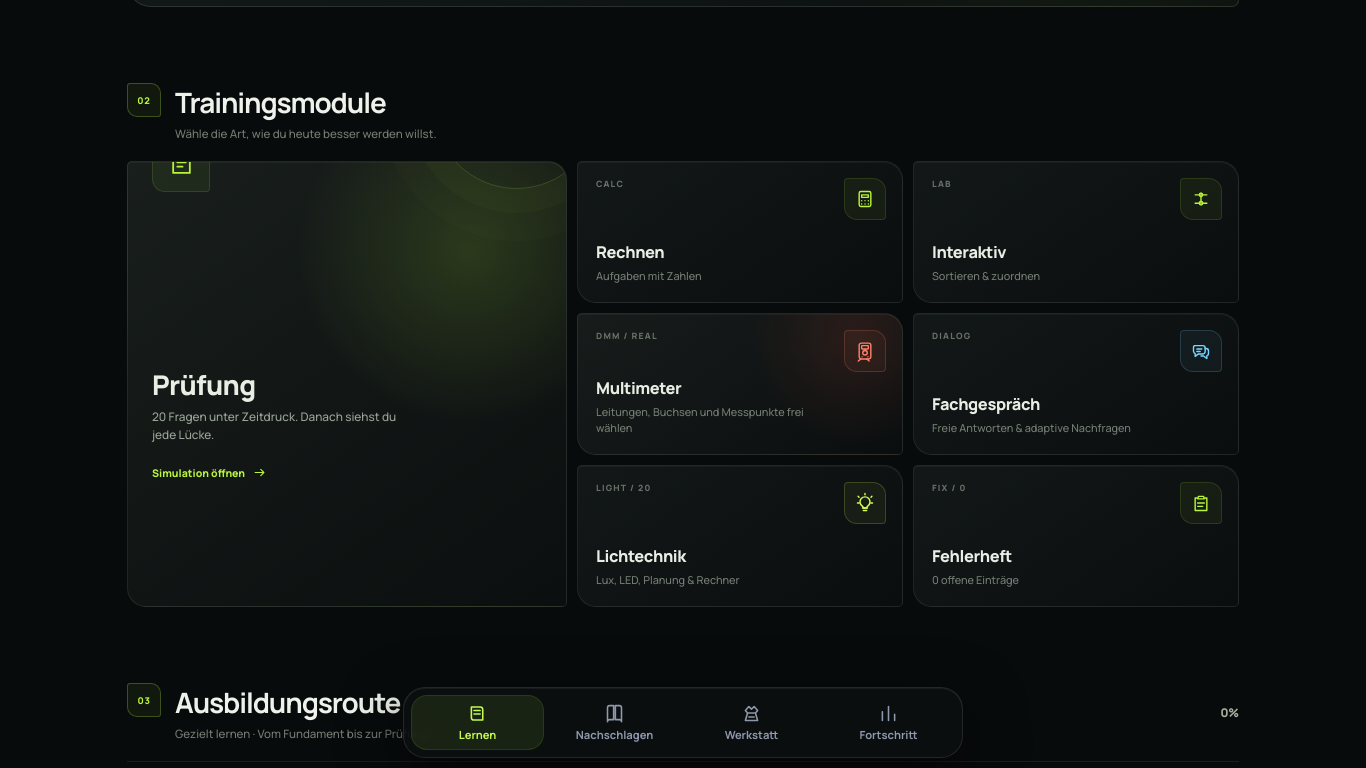
Test: Pruefungssimulation › startet nach Bestaetigung und zeigt die erste Frage mit Timer
This screenshot has width=1366, height=768.
(page scrolled)
Click the text "Prüfung": coordinates (204, 384) [152,366,256,403]
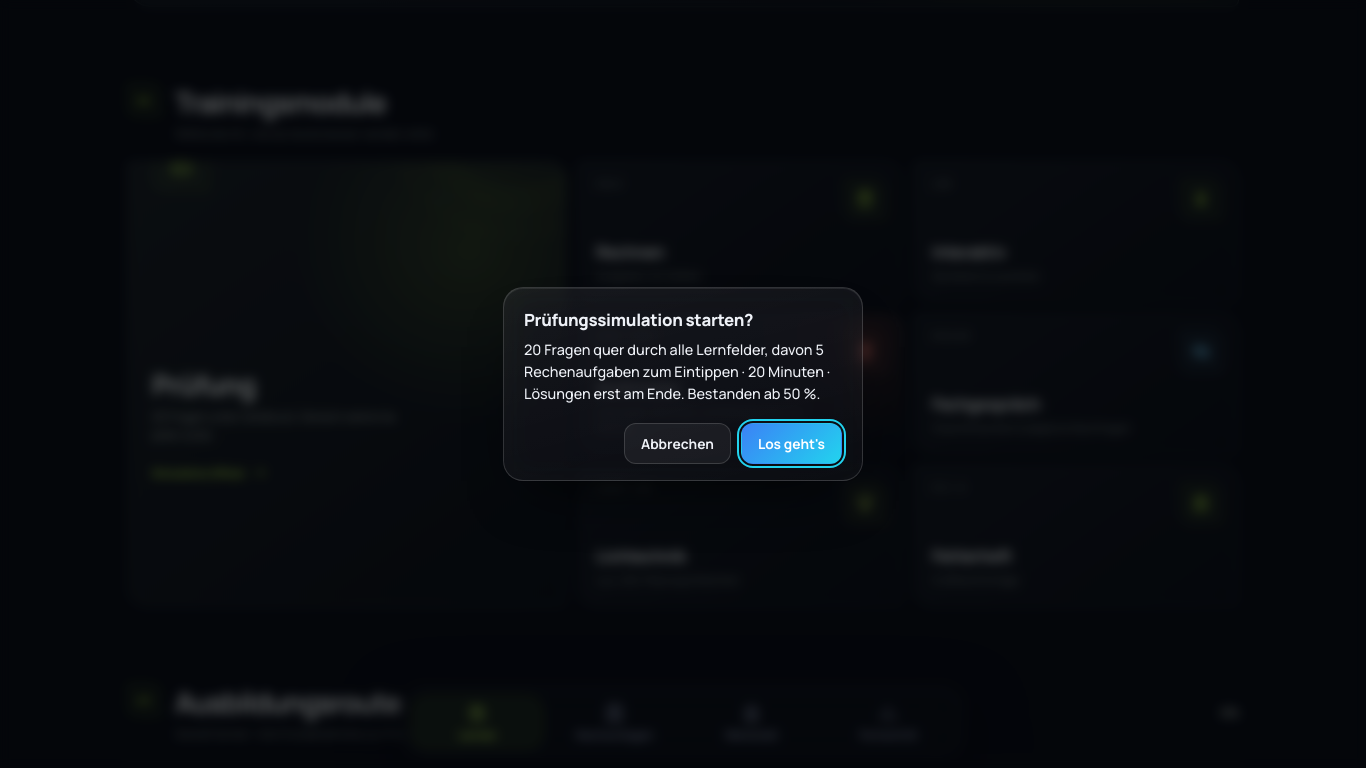
Click the button "Los geht's": coordinates (791, 444) [741,424,842,464]
(page scrolled)
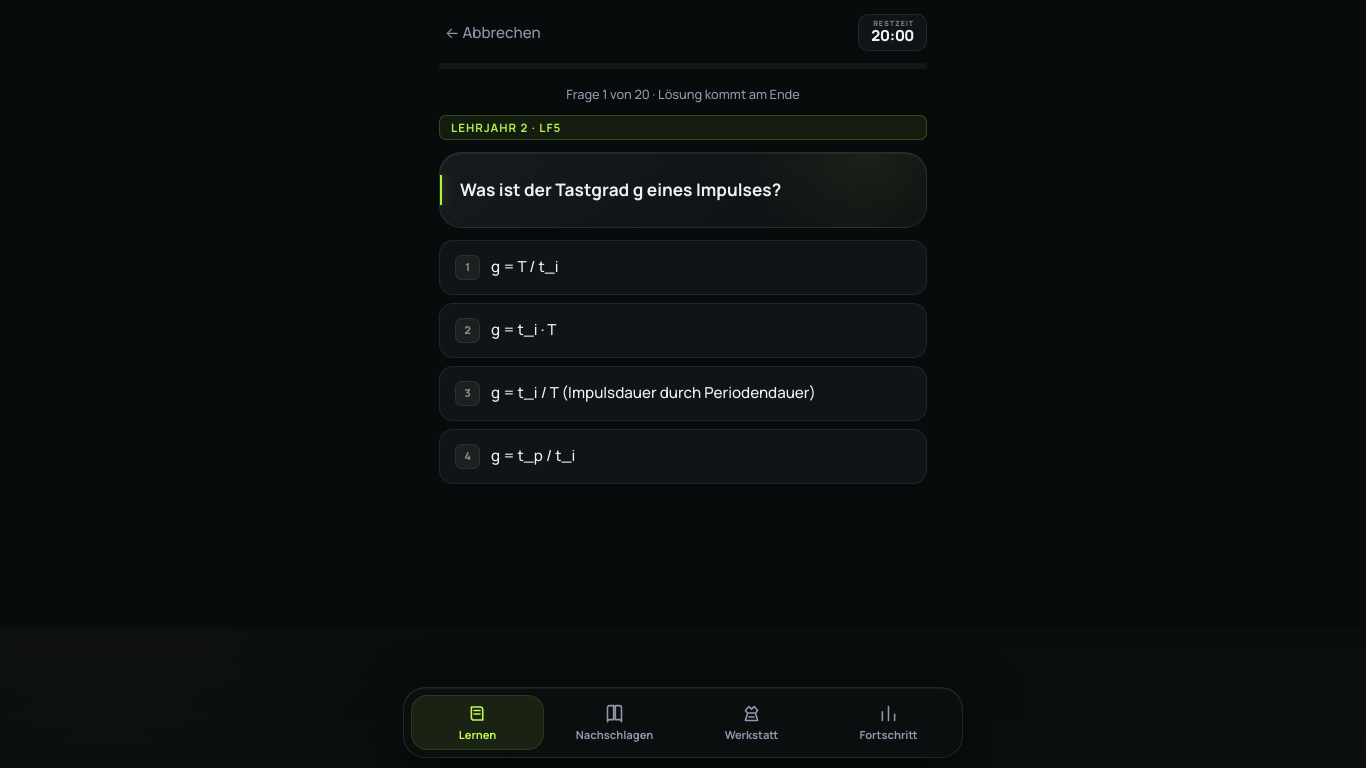
Expected: the text "Was ist der Tastgrad g eines Impulses?" is shown, [439,152,927,228]
Expected: the text "Frage 1 von 20 · Lösung kommt am Ende" is shown, [566,85,800,103]
Expected: the element showing "RESTZEIT 20:00" is shown, [858,14,927,51]
